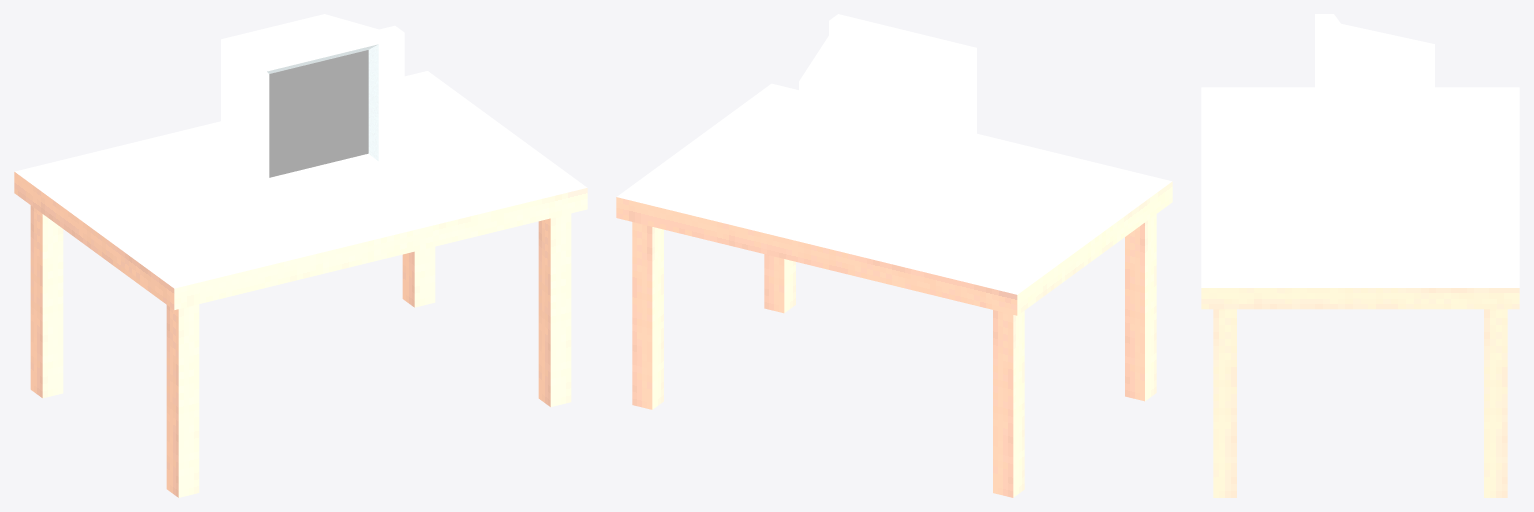
File: desk_and_monitor.glb
3 views of the same model, side by side, from view 1: azimuth 30°, elevation 25°; view 2: azimuth 150°, elevation 25°; view 3: azimuth 270°, elevation 25° (orthographic). The views are drawn at different scales.
Parts seen in each view (by area): view 1: Desk, Monitor; view 2: Desk, Monitor; view 3: Desk, Monitor.
Boxes of the visible parts, x1,y1,x2,y2 form: Desk: [14, 71, 587, 497]; Monitor: [221, 14, 404, 197]; Desk: [616, 83, 1172, 497]; Monitor: [799, 14, 976, 220]; Desk: [1201, 87, 1519, 497]; Monitor: [1315, 14, 1434, 218].
Size of the model in its own units: 2 by 1.67 by 1.34.
